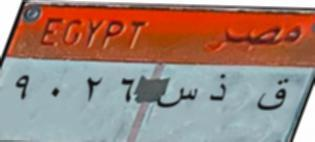0: (45, 79, 65, 108)
2: (83, 72, 105, 104)
6: (117, 73, 137, 106)
9: (14, 69, 32, 105)
qaaf: (255, 76, 289, 117)
seen: (156, 80, 200, 113)
zaal: (207, 70, 231, 108)
